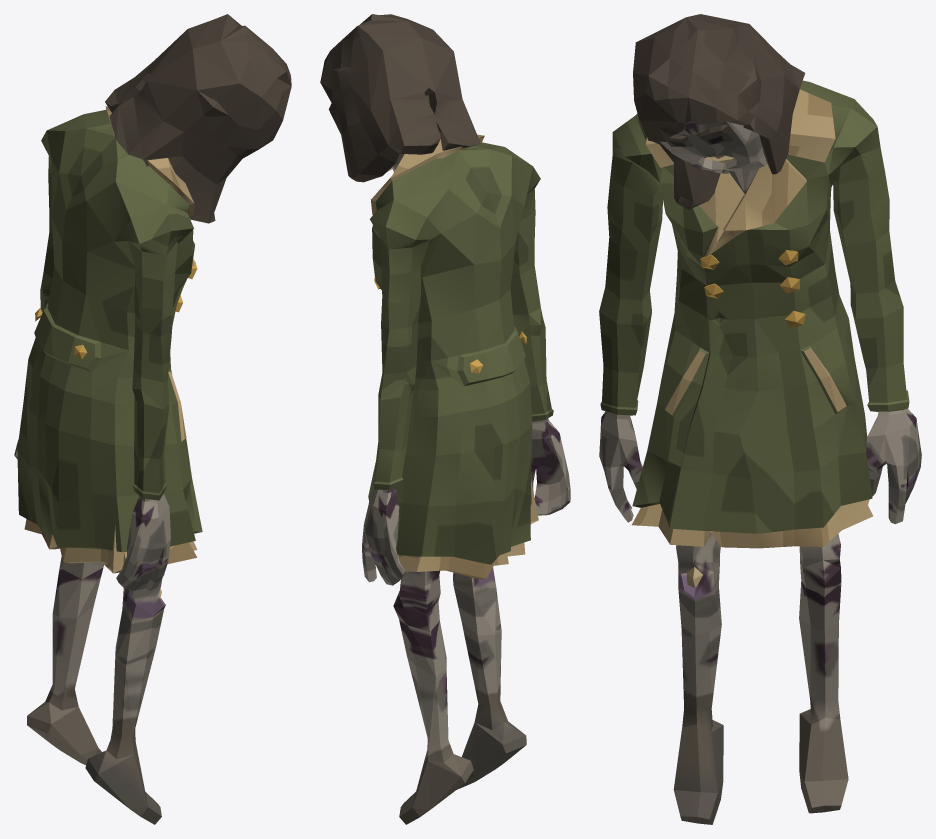
Rendered from apoc_SM_Prop_DeadBody_Hanging_Female_02.gltf.
3 renders of one model, left to right at view 1: azimuth 30°, elevation 25°; view 2: azimuth 150°, elevation 25°; view 3: azimuth 270°, elevation 25°, orthographic. The views are drawn at different scales.
Visible parts, largest first — view 1: SM_Prop_DeadBody_Hanging_Female_02; view 2: SM_Prop_DeadBody_Hanging_Female_02; view 3: SM_Prop_DeadBody_Hanging_Female_02.
Part boxes in pixels (x1=…): SM_Prop_DeadBody_Hanging_Female_02: x1=14, y1=14, x2=291, y2=824; SM_Prop_DeadBody_Hanging_Female_02: x1=320, y1=14, x2=570, y2=824; SM_Prop_DeadBody_Hanging_Female_02: x1=599, y1=14, x2=921, y2=824.
Size of the model in its own units: 0.5447 by 1.82 by 0.6288.
Materials: 1 (1 with a texture image).
